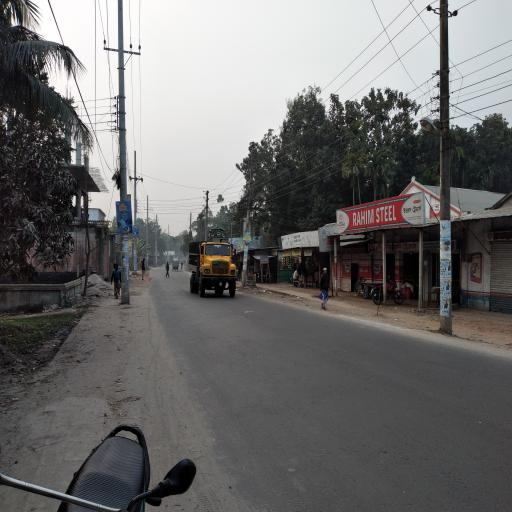auto rickshaw: (173, 259, 180, 272)
bicycle: (182, 261, 185, 272)
motorbike: (2, 409, 202, 512), (370, 276, 406, 307), (258, 273, 276, 285)
truck: (188, 228, 241, 300)
